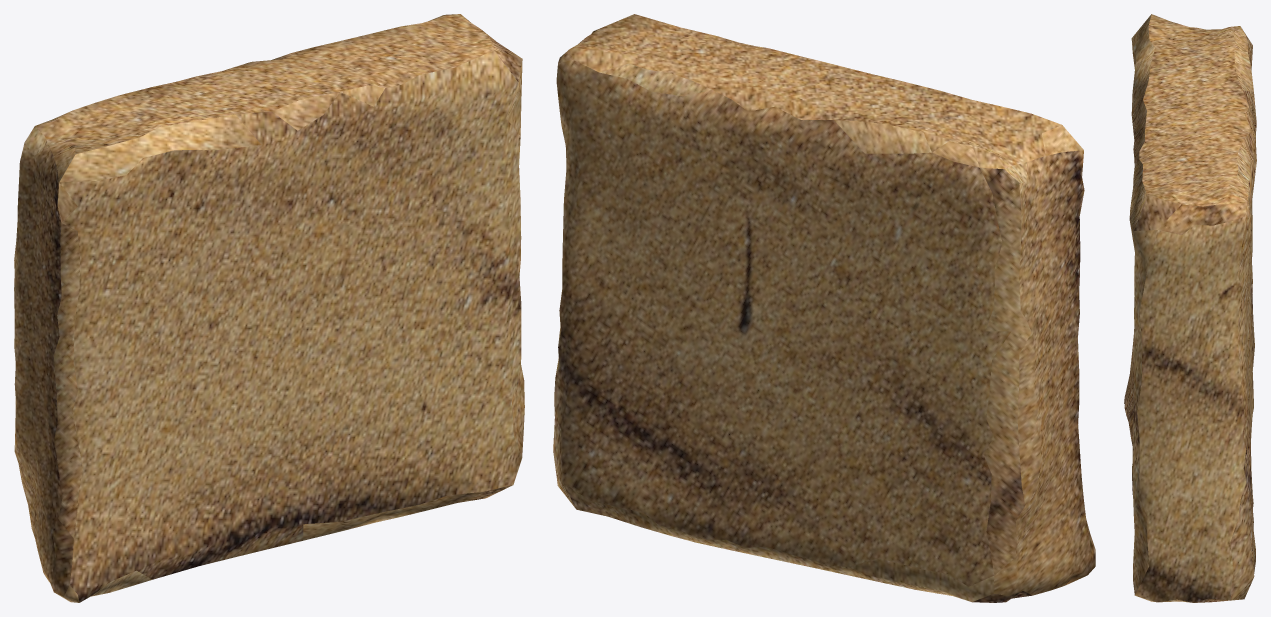
The model's file is plataforma_2.obj.
3 views of the same model, side by side, from view 1: azimuth 30°, elevation 25°; view 2: azimuth 150°, elevation 25°; view 3: azimuth 270°, elevation 25° (orthographic). The views are drawn at different scales.
Parts seen in each view (by area): view 1: plataforma_2; view 2: plataforma_2; view 3: plataforma_2.
Boxes of the visible parts, bbox=[...] form: plataforma_2: bbox=[14, 14, 524, 602]; plataforma_2: bbox=[553, 14, 1095, 602]; plataforma_2: bbox=[1124, 14, 1256, 602].
Bounding box in the file's own units: 2.26 × 2.05 × 0.6026.
